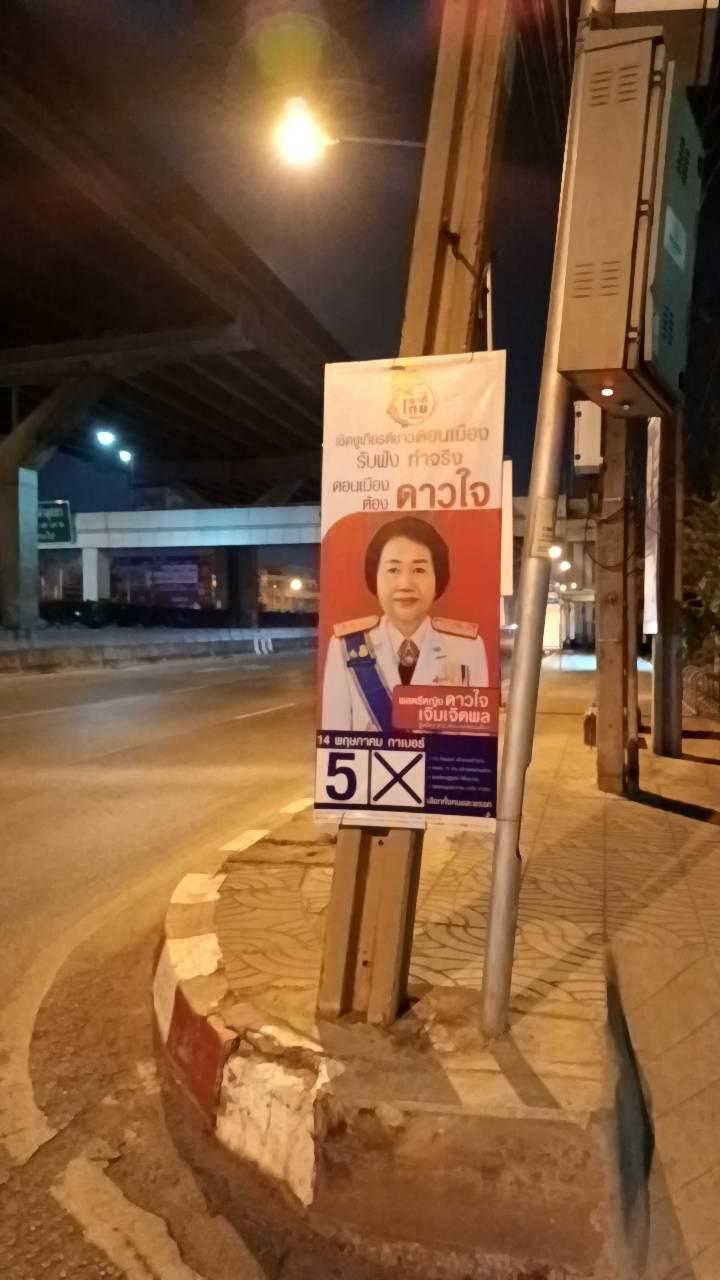Banner: (310, 353, 514, 811)
